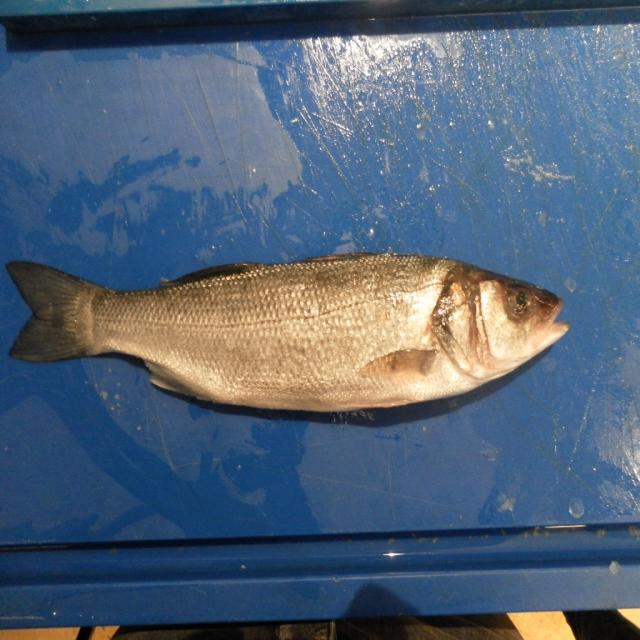Sea-Bass-levrek-: (5, 253, 571, 416)
